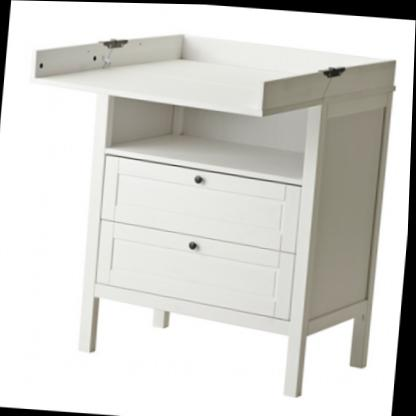Table: (0, 19, 400, 403)
